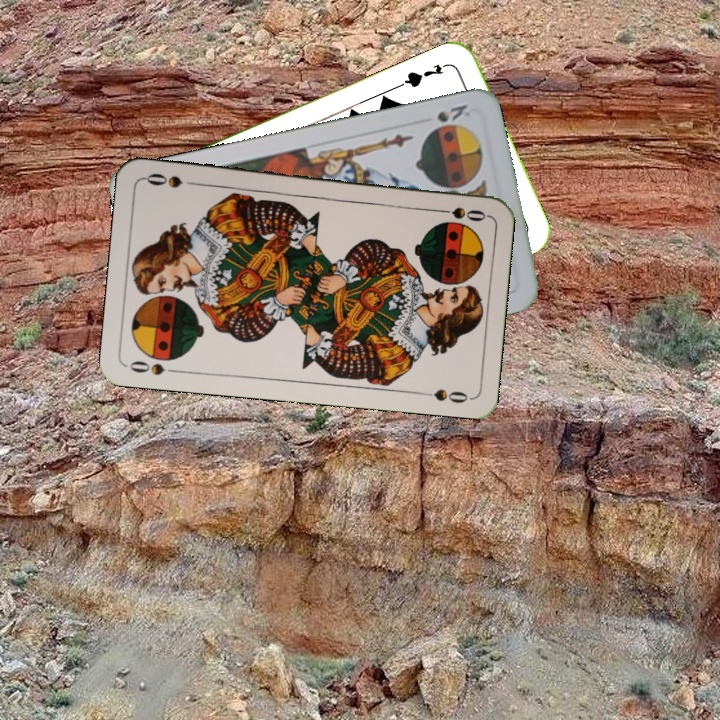G7: (397, 59, 454, 90)
SK: (432, 100, 473, 125)
SO: (429, 203, 488, 224), (126, 357, 183, 378)
